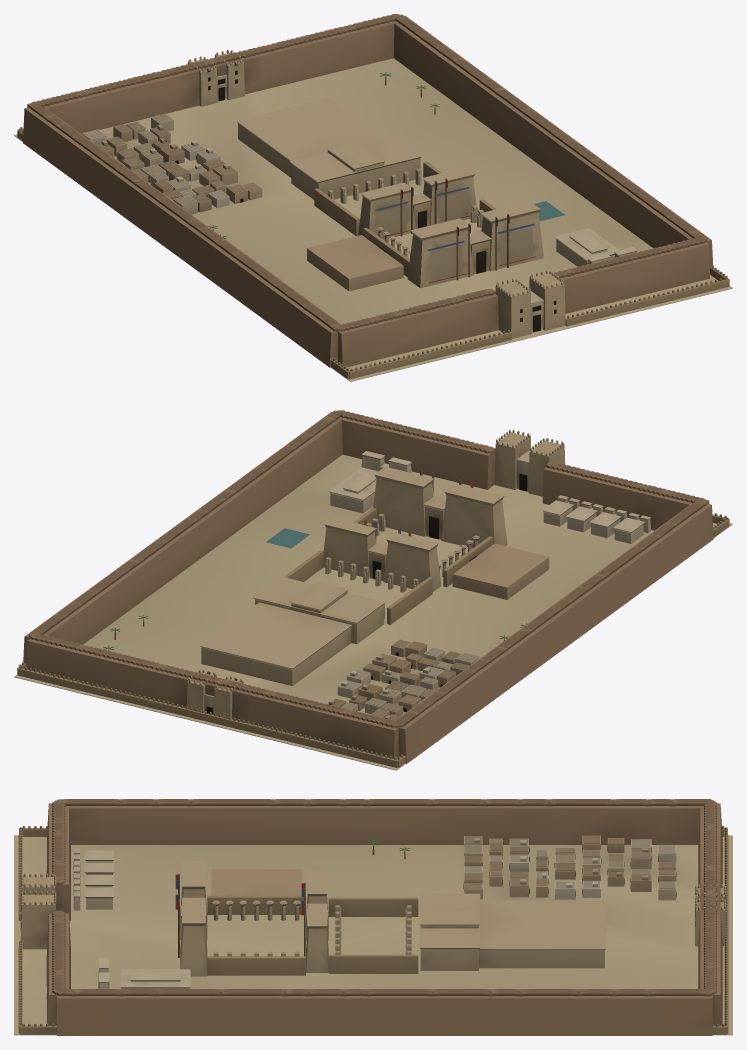
Rendered from medinet-habu.glb.
3 renders of one model, top to bottom at view 1: azimuth 30°, elevation 25°; view 2: azimuth 150°, elevation 25°; view 3: azimuth 270°, elevation 25°, orthographic. The views are drawn at different scales.
Parts seen in each view (by area): view 1: p0_walls, p1_temple, p3_houses, p2_chapels; view 2: p0_walls, p1_temple, p3_houses, p2_chapels; view 3: p0_walls, p1_temple, p3_houses, p2_chapels.
Part boxes in pixels (x1,y1,x2,y2): p0_walls: (14, 14, 732, 381); p1_temple: (187, 49, 637, 338); p3_houses: (82, 72, 439, 238); p2_chapels: (328, 168, 484, 257); p0_walls: (14, 410, 732, 770); p1_temple: (187, 429, 565, 718); p3_houses: (103, 615, 526, 720); p2_chapels: (325, 495, 651, 618); p0_walls: (14, 799, 732, 1035); p1_temple: (20, 861, 725, 989); p3_houses: (367, 835, 676, 900); p2_chapels: (73, 848, 411, 956).
Size of the model in its own units: 211 by 28.33 by 320.
